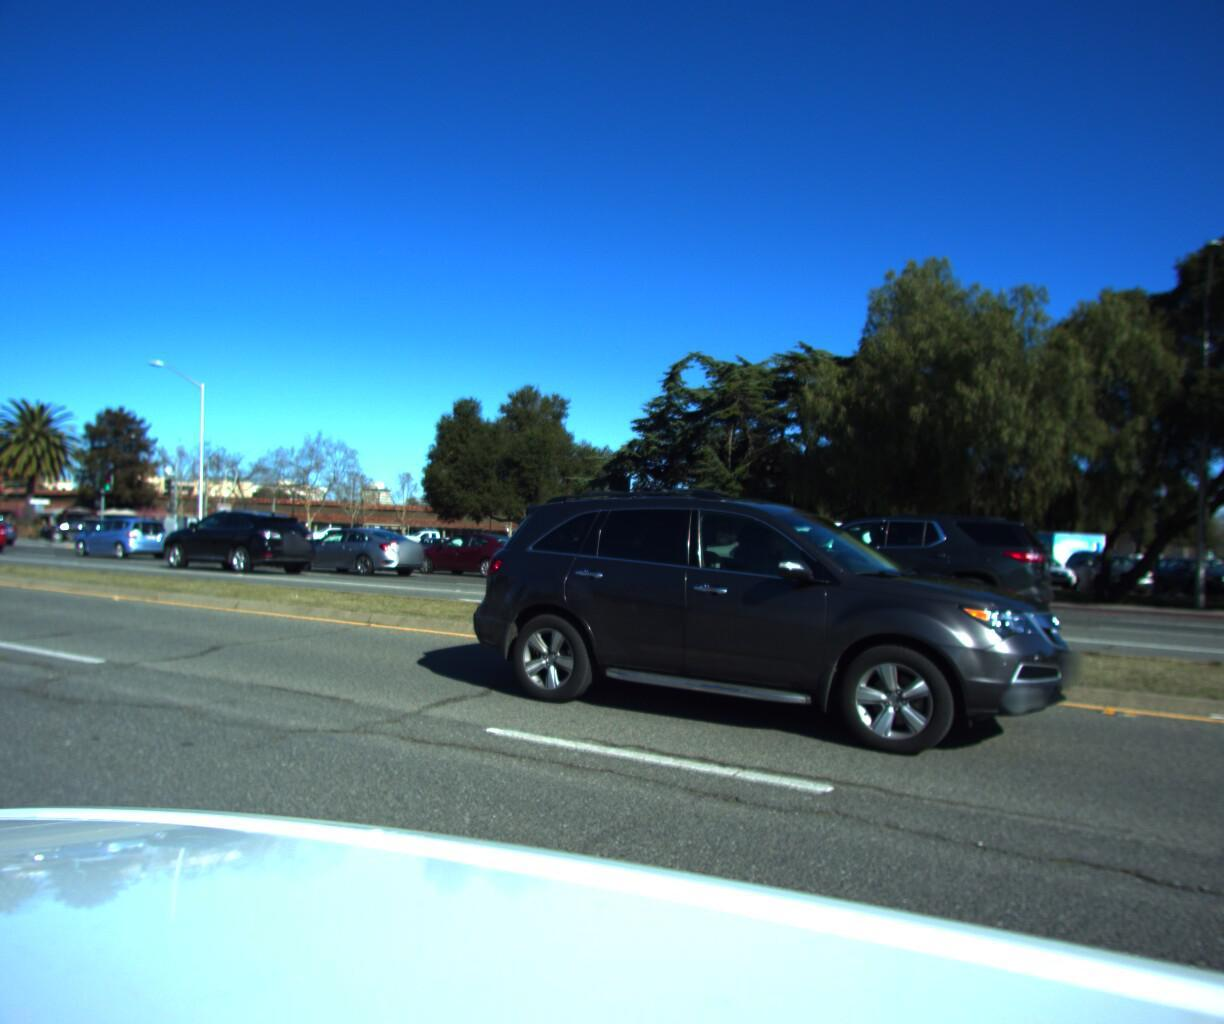car: (455, 473, 1072, 778), (745, 499, 1089, 637), (660, 511, 891, 608), (142, 498, 324, 573), (293, 513, 436, 575), (404, 521, 543, 575), (63, 507, 174, 555), (34, 510, 116, 539), (292, 519, 373, 544), (387, 523, 463, 548), (0, 505, 42, 543), (410, 531, 464, 553), (0, 502, 18, 549)
